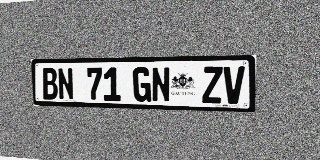1: (103, 67, 121, 101)
7: (86, 67, 103, 101)
B: (41, 68, 58, 100)
G: (133, 67, 151, 102)
N: (151, 67, 170, 102), (57, 68, 74, 100)
V: (223, 66, 245, 104)
Z: (202, 66, 223, 104)
